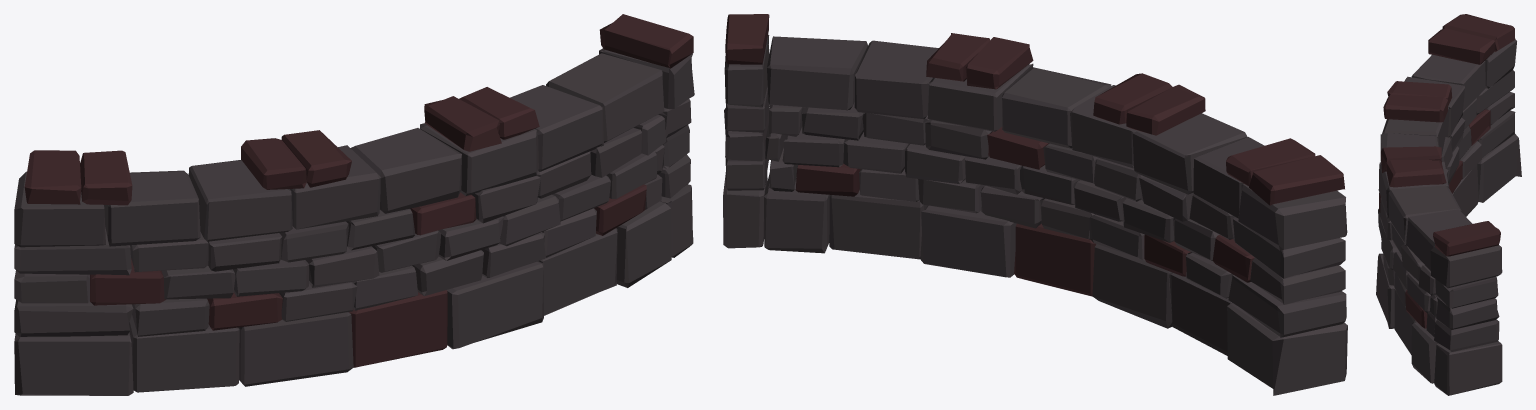
File: wall_bend.fbx
The picture shows the model from 3 angles, left to right: view 1: azimuth 30°, elevation 25°; view 2: azimuth 150°, elevation 25°; view 3: azimuth 270°, elevation 25°; orthographic projection. The views are drawn at different scales.
Visible parts, largest first — view 1: wall alone zafter mod; view 2: wall alone zafter mod; view 3: wall alone zafter mod.
Part boxes in pixels (x1=…): wall alone zafter mod: x1=14, y1=14, x2=694, y2=395; wall alone zafter mod: x1=723, y1=14, x2=1347, y2=395; wall alone zafter mod: x1=1376, y1=14, x2=1521, y2=395.
Bounding box in the file's own units: 1901 × 596 × 500.
